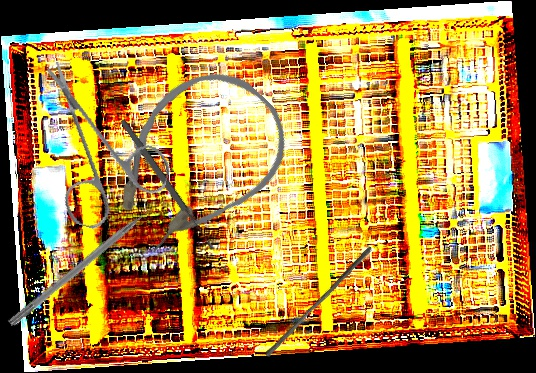Cannula: (81, 46, 309, 278)
Iris Scissors: (6, 59, 191, 246)
Pusher: (7, 198, 165, 329), (263, 241, 374, 362)
Surgical Spoon: (118, 117, 216, 252)
